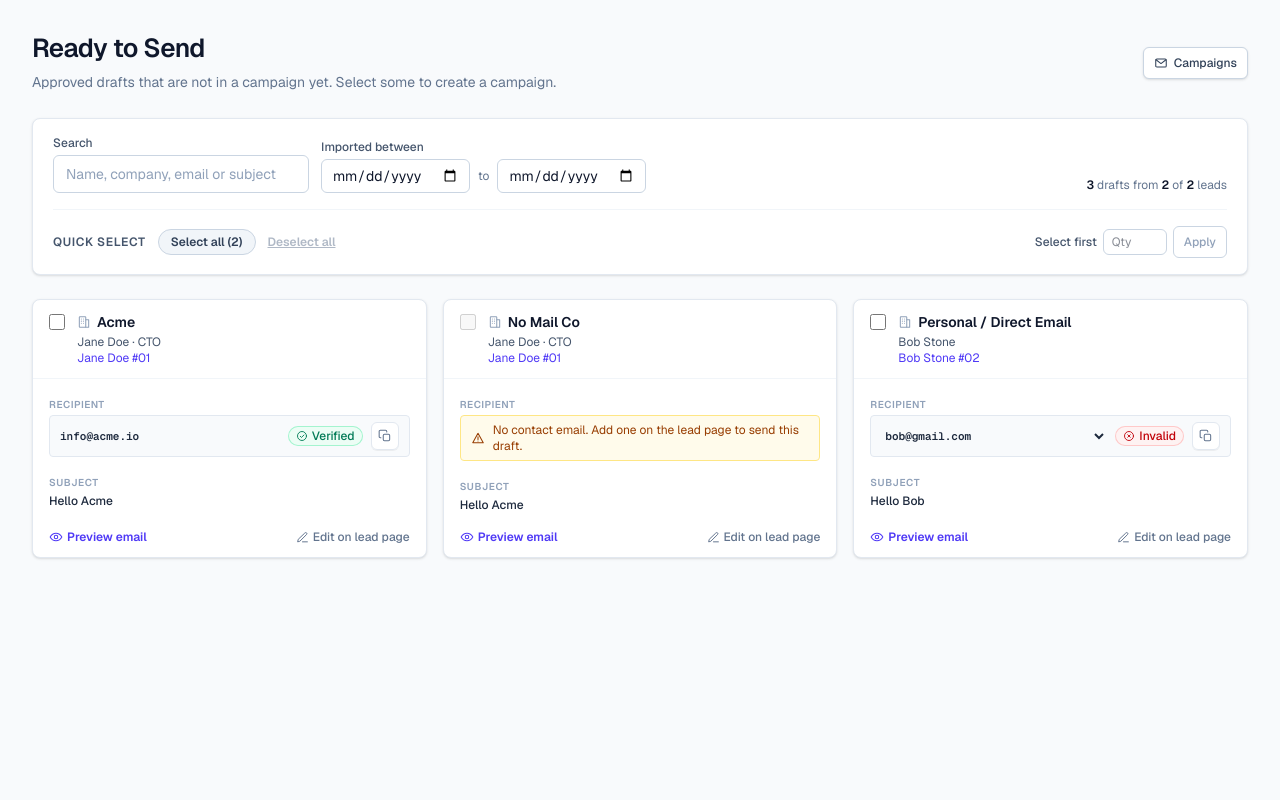
ApprovedEmailsPage › saves as draft without leaving the page, clears the selection and reloads
Expected: the heading "Acme" is shown, [77, 313, 135, 331]
Click the button "Select all (2)": (207, 242) [158, 229, 256, 255]
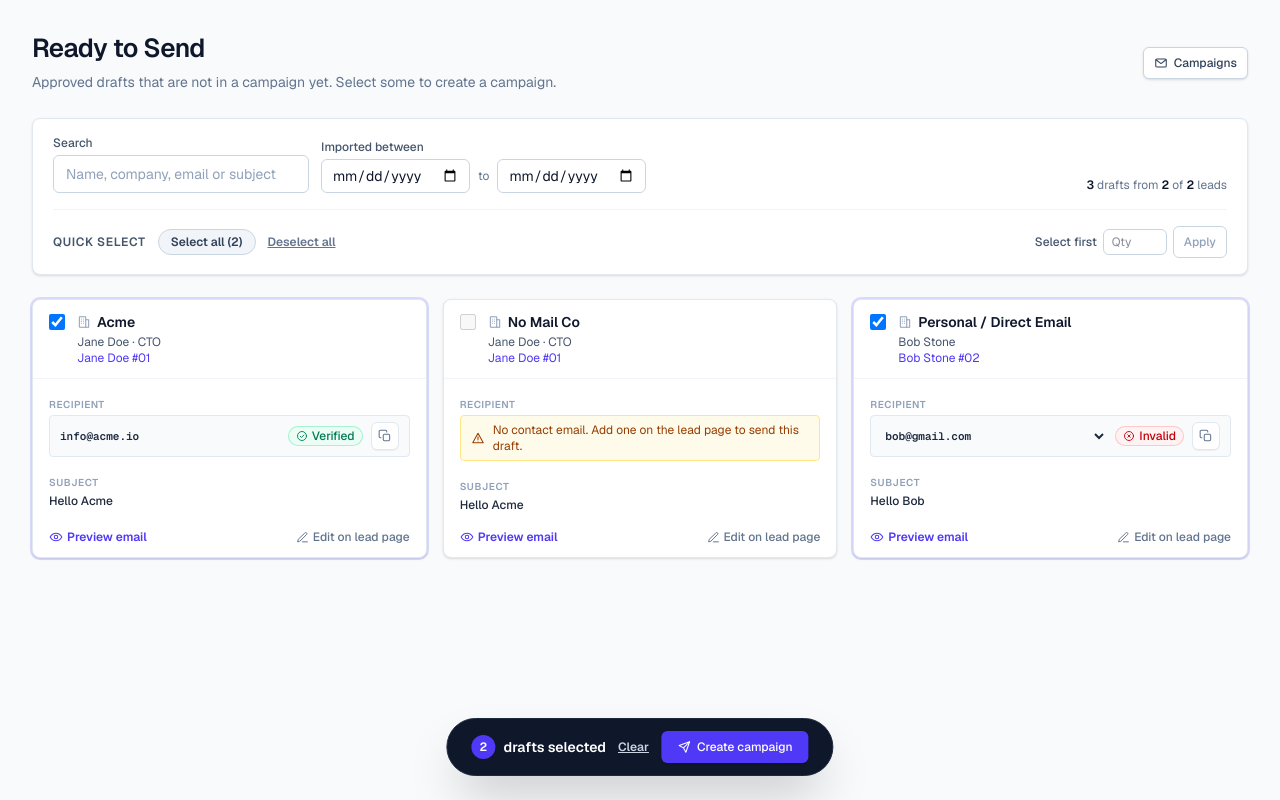
Click the button "Create campaign": (735, 747) [661, 731, 809, 763]
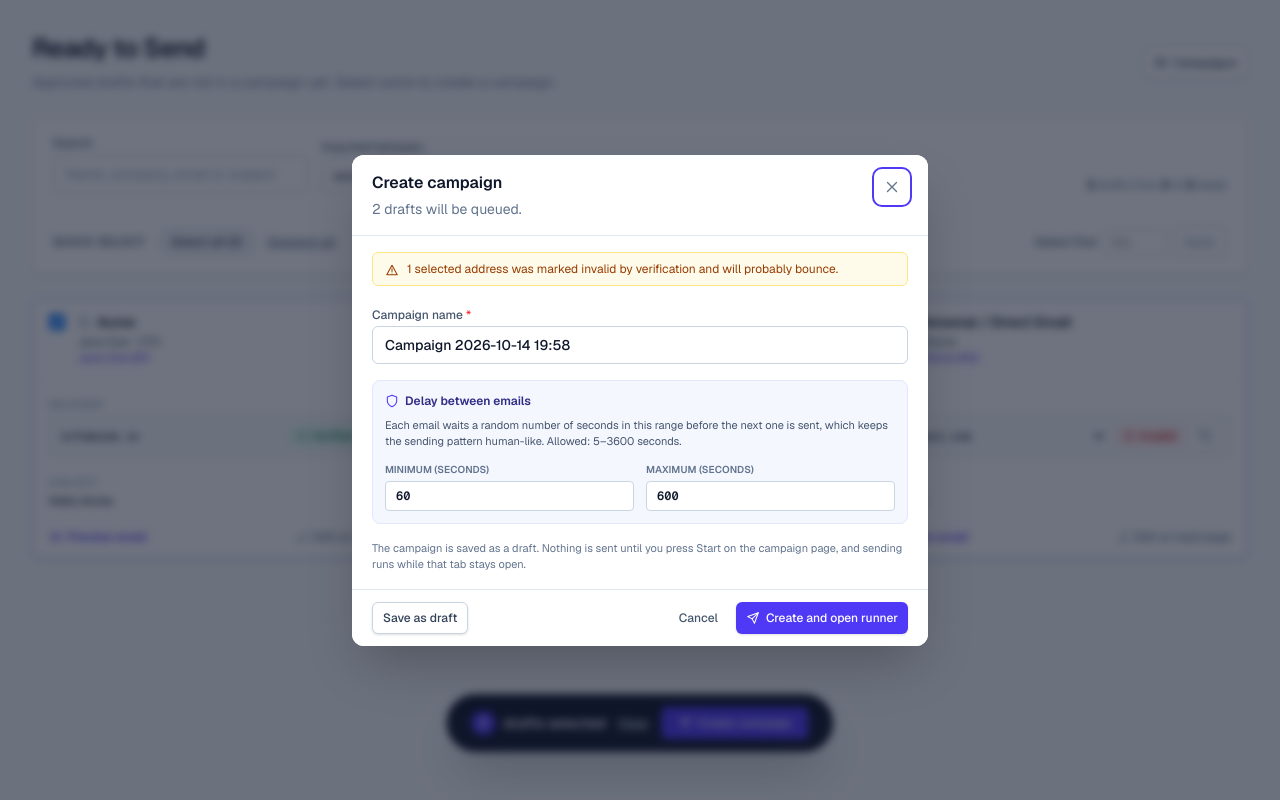
Click the button "Save as draft": (420, 618) [372, 602, 468, 634]
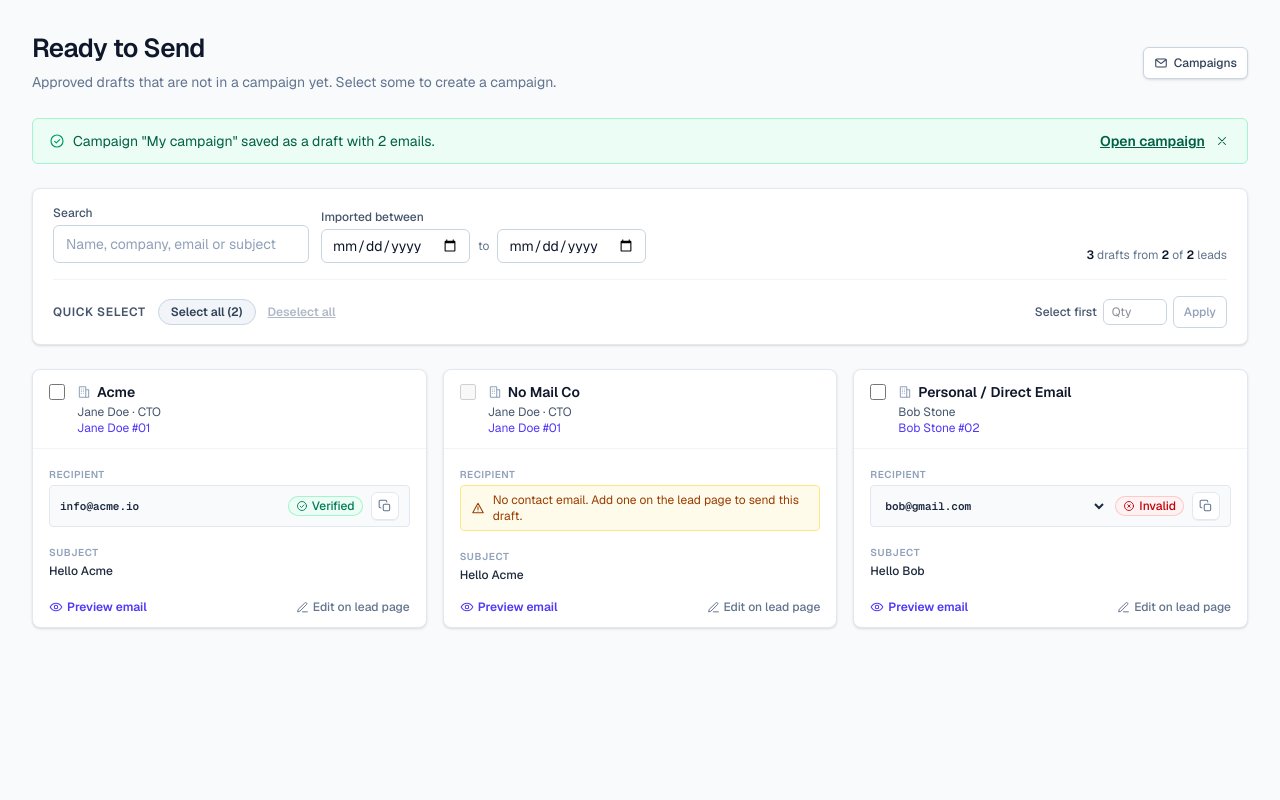
Now the message shows "Campaign \"My campaign\" saved as a draft with 2 emails.", box [73, 132, 434, 150]
Now the text "drafts selected" is gone
